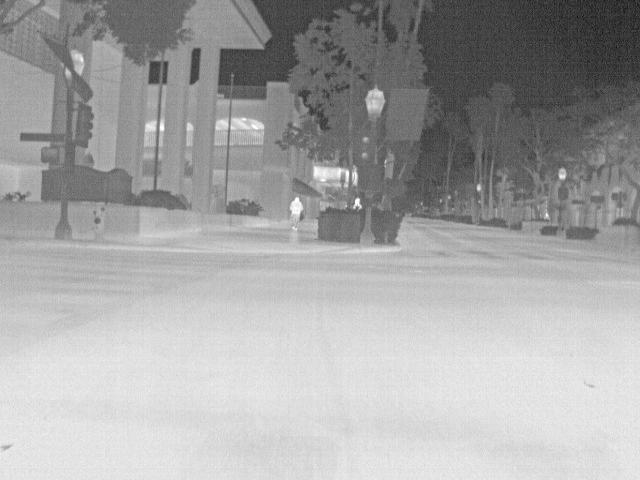person: (289, 195, 304, 231), (353, 195, 363, 210)
